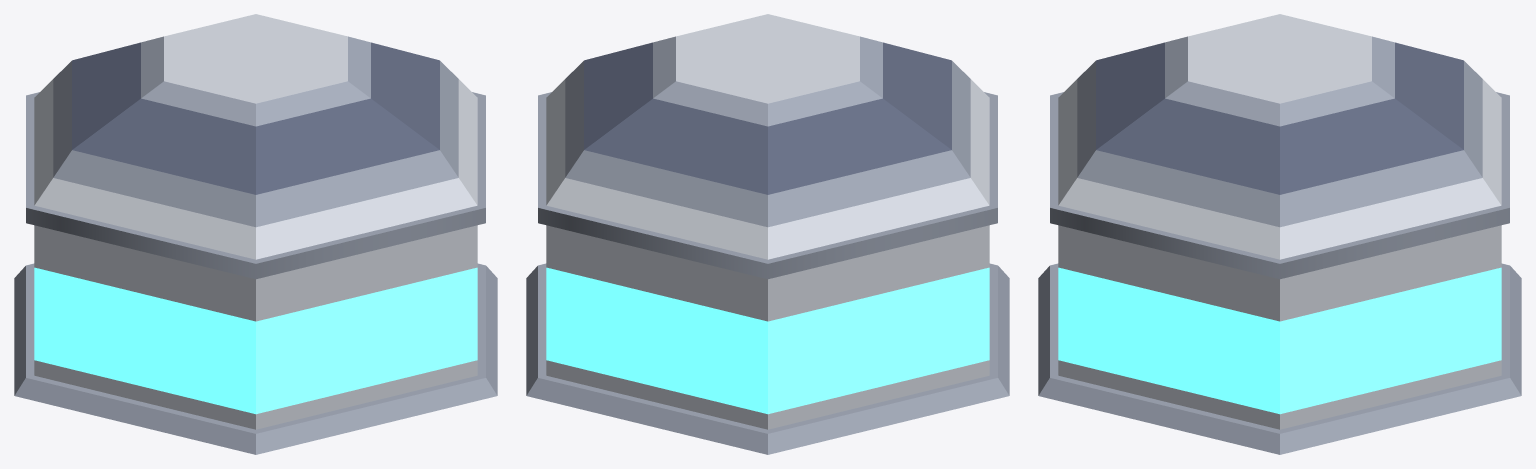
Rendered from hangar_roundB.glb.
The picture shows the model from 3 angles, left to right: view 1: azimuth 30°, elevation 25°; view 2: azimuth 150°, elevation 25°; view 3: azimuth 270°, elevation 25°; orthographic projection.
Visible parts, largest first — view 1: hangar_roundB; view 2: hangar_roundB; view 3: hangar_roundB.
Boxes of the visible parts, <box> form: hangar_roundB: <box>14,14,497,454</box>; hangar_roundB: <box>526,14,1009,454</box>; hangar_roundB: <box>1038,14,1521,454</box>.
Bounding box in the file's own units: 3.27 × 1.8 × 2.83.
